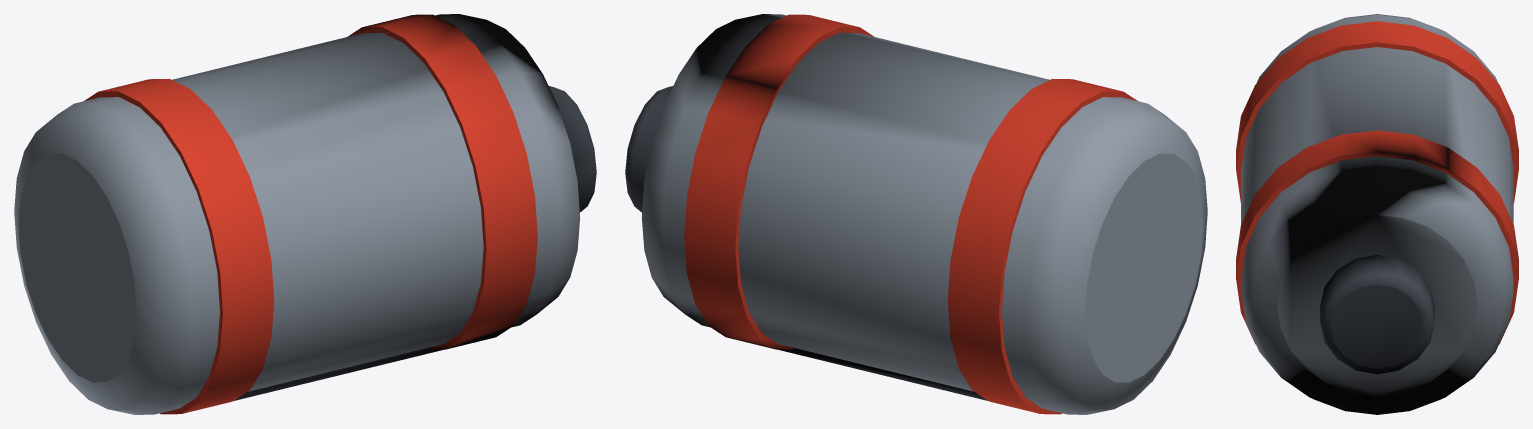
File: junk_canister.glb
3 views of the same model, side by side, from view 1: azimuth 30°, elevation 25°; view 2: azimuth 150°, elevation 25°; view 3: azimuth 270°, elevation 25° (orthographic). The views are drawn at different scales.
Parts seen in each view (by area): view 1: canister_mesh; view 2: canister_mesh; view 3: canister_mesh.
Part boxes in pixels (x1,y1,x2,y2): canister_mesh: [14, 14, 596, 414]; canister_mesh: [625, 14, 1207, 414]; canister_mesh: [1236, 14, 1518, 414].
Size of the model in its own units: 0.67 by 0.397 by 0.394.
